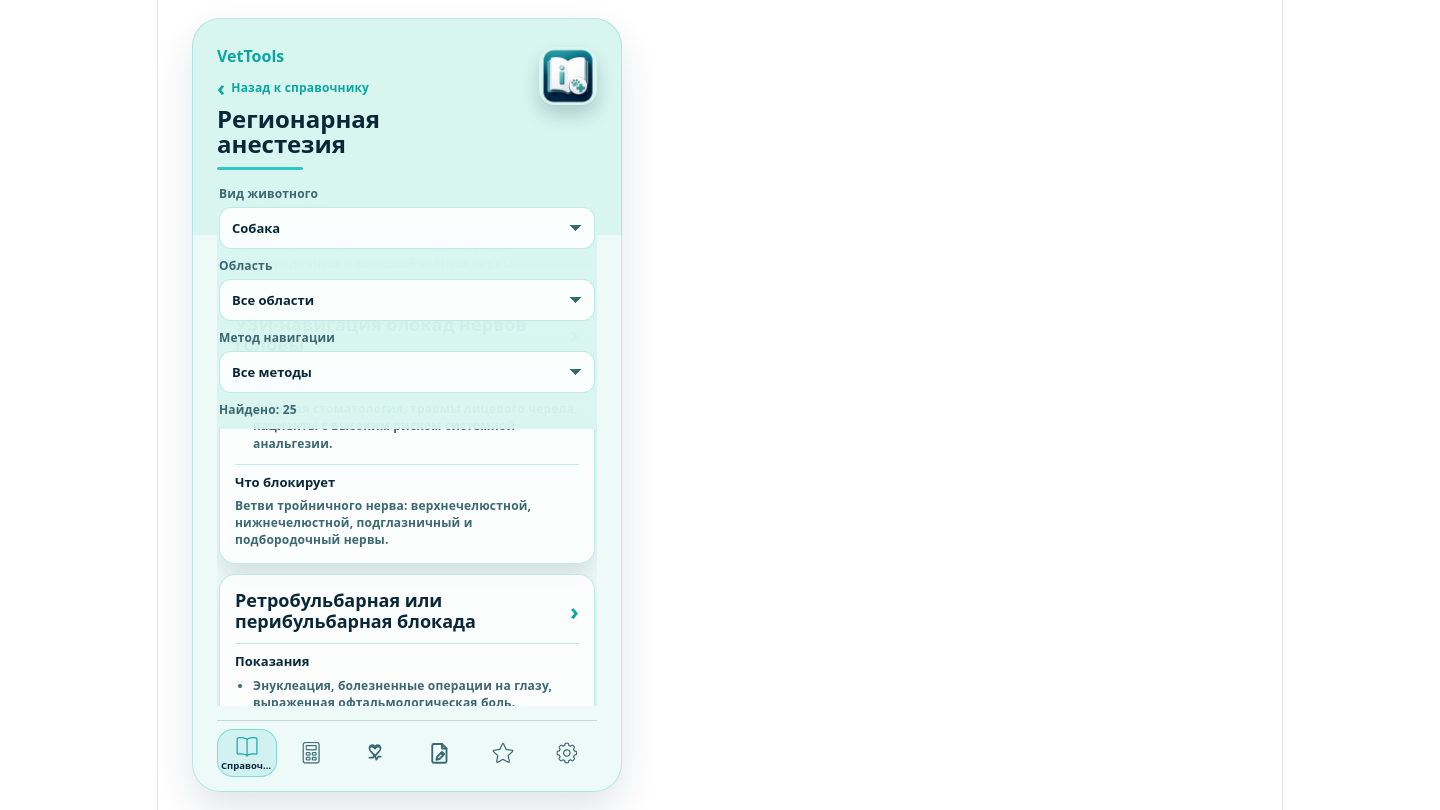
Test: RegionalAnesthesiaReferencePage › opens the selected block as a full detail page
The width and height of the screenshot is (1440, 810).
(page scrolled)
Click the link named "УЗИ-навигация блокад нервов головы. Открыть полную карточку блокады": (407, 431) 219,298 -> 595,564
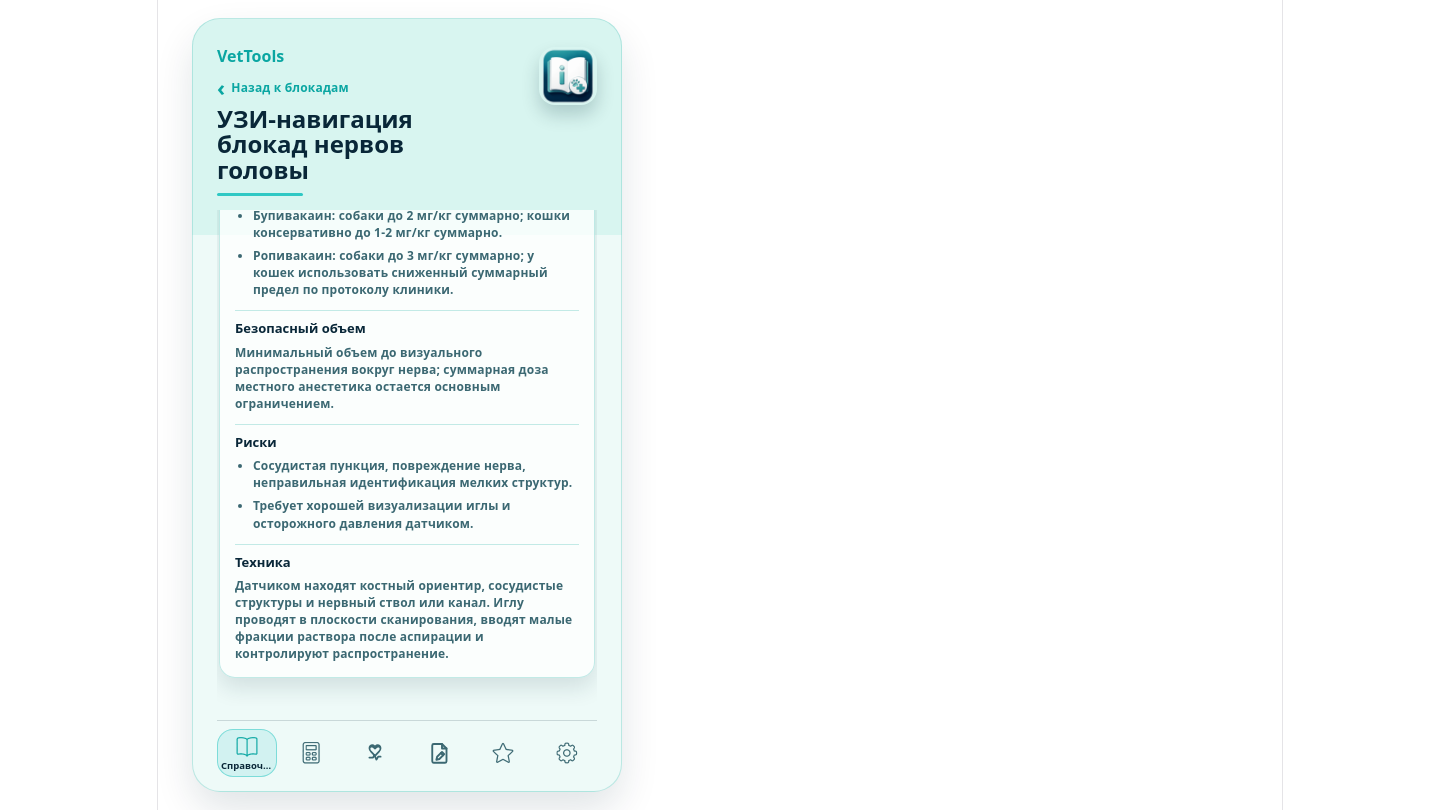
Check: the heading "УЗИ-навигация блокад нервов головы" is shown, box 217,102 -> 413,186
Check: the heading "Безопасный объем" is shown, box 235,319 -> 366,337
Check: the heading "Риски" is shown, box 235,433 -> 277,451
